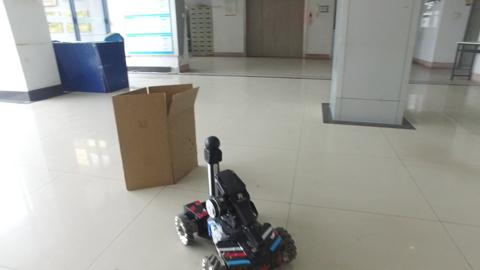box: (112, 86, 196, 194)
chariot: (168, 133, 302, 268)
